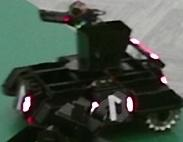armor_1: (91, 97, 133, 115)
